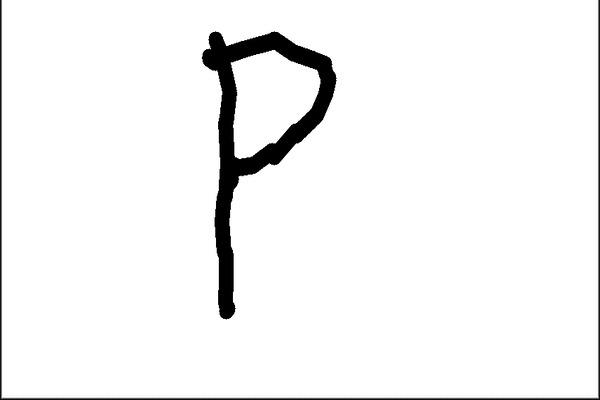P: (176, 11, 347, 338)
